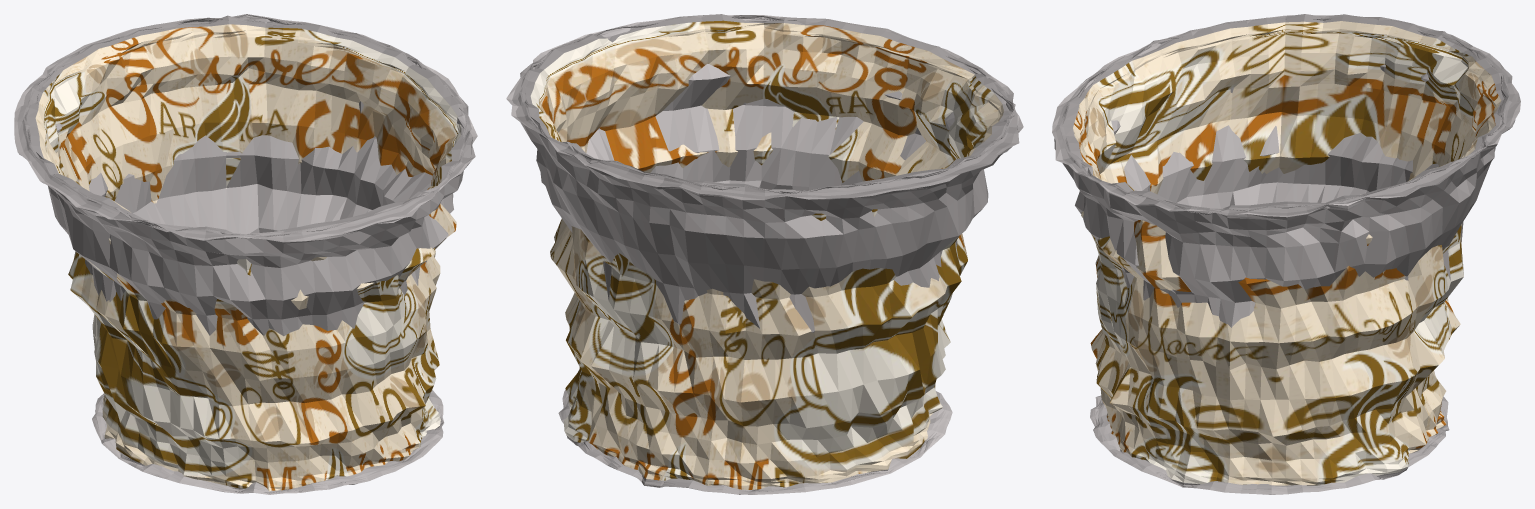
The model's file is crush_medium_1.obj.
3 renders of one model, left to right at view 1: azimuth 30°, elevation 25°; view 2: azimuth 150°, elevation 25°; view 3: azimuth 270°, elevation 25°, orthographic. The views are drawn at different scales.
Parts seen in each view (by area): view 1: model; view 2: model; view 3: model.
Part boxes in pixels (box(x1,y1,x2,y2)): model: box(14, 14, 477, 494); model: box(506, 14, 1023, 494); model: box(1052, 14, 1520, 494).
Size of the model in its own units: 0.0851 by 0.063 by 0.0829.
Materials: 1 (1 with a texture image).
